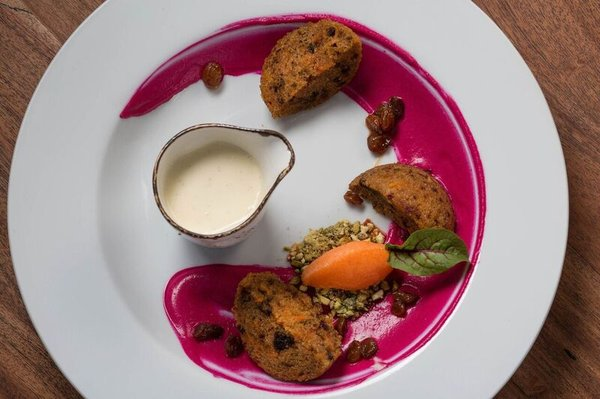sushi: (152, 124, 296, 252)
